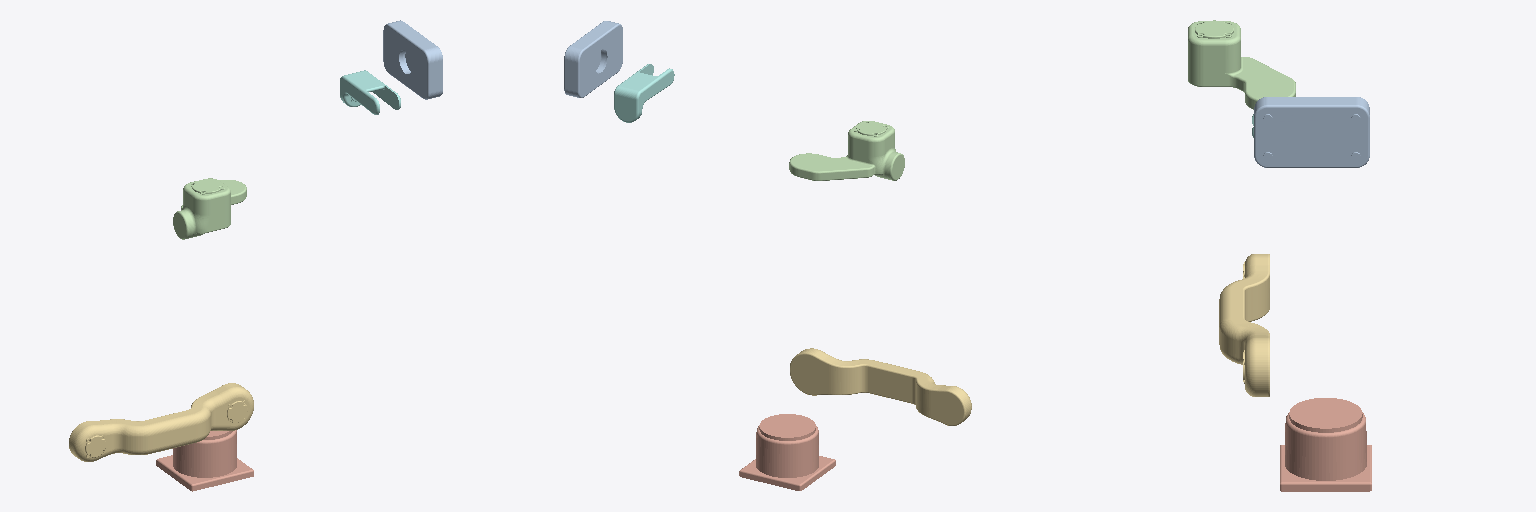
robot.urdf — sero_3:
<robot name="sero_3">
    <link name="world">
    <!--Bleibt erstmal leer -->
    </link>

    <joint name="fixed_link_to_world" type="fixed">
        <parent link="world"/>
        <child link="base"/>
    </joint>   
    <link name="base">
        <visual>
            <origin xyz="-4.1633363423443370266e-17 1.6949752565162061855e-18 -5.5154662533553587949e-34" rpy="-3.254009893154236877e-16 8.6281661508548166217e-32 1.2347465433156991646e-16" />
            <geometry>
                <mesh filename="package://sero_3/meshes/base.stl" />
            </geometry>
            <material name="base_material">
                <color rgba="0.89019607843137249503 0.69803921568627447236 0.63921568627450975342 1.0" />
            </material>
        </visual>
        <collision>
            <origin xyz="-4.1633363423443370266e-17 1.6949752565162061855e-18 -5.5154662533553587949e-34" rpy="-3.254009893154236877e-16 8.6281661508548166217e-32 1.2347465433156991646e-16" />
            <geometry>
                <mesh filename="package://sero_3/meshes/base.stl" />
            </geometry>
        </collision>
        <inertial>
            <origin xyz="-1.4191131412431651619e-17 3.093208156293898791e-17 0.039865010471469702891" rpy="0 0 0" />
            <mass value="29.561020908170693389" />
            <inertia ixx="0.56414288287999059257" ixy="6.1629758220391547298e-32" ixz="-2.6008615487439589667e-32" iyy="0.5641428828799902595" iyz="1.5651332502670880486e-16" izz="1.0451288975690682381" />
        </inertial>
    </link>
    <link name="link_1">
        <visual>
            <origin xyz="-6.1629758220391547298e-33 4.8470540592812887996e-18 0" rpy="3.141592653589793116 -2.0861283505423087262e-43 0" />
            <geometry>
                <mesh filename="package://sero_3/meshes/link_1.stl" />
            </geometry>
            <material name="link_1_material">
                <color rgba="0.92156862745098033773 0.80000000000000004441 0.65490196078431373028 1.0" />
            </material>
        </visual>
        <collision>
            <origin xyz="-6.1629758220391547298e-33 4.8470540592812887996e-18 0" rpy="3.141592653589793116 -2.0861283505423087262e-43 0" />
            <geometry>
                <mesh filename="package://sero_3/meshes/link_1.stl" />
            </geometry>
        </collision>
        <inertial>
            <origin xyz="2.5812154935817390889e-07 0.020078728528027917077 -0.084265679701914092403" rpy="0 0 0" />
            <!--
            <mass value="32.098264787234505491" /> -->
            <mass value="20" />
            <inertia ixx="0.15183599668872910238" ixy="-1.1318804273050995291e-06" ixz="4.1015787527610980043e-07" iyy="0.12206161215963268196" iyz="0.00514067802598717951" izz="0.12973629061825234232" />
        </inertial>
    </link>
    <link name="link_2">
        <visual>
            <origin xyz="0 4.5924254968025766839e-18 4.1183628318625710158e-18" rpy="-3.141592653589793116 9.8607613152626475676e-32 -1.3749793942868710628e-32" />
            <geometry>
                <mesh filename="package://sero_3/meshes/link_2.stl" />
            </geometry>
            <material name="link_2_material">
                <color rgba="0.94117647058823528106 0.87450980392156862919 0.67843137254901964006 1.0" />
            </material>
        </visual>
        <collision>
            <origin xyz="0 4.5924254968025766839e-18 4.1183628318625710158e-18" rpy="-3.141592653589793116 9.8607613152626475676e-32 -1.3749793942868710628e-32" />
            <geometry>
                <mesh filename="package://sero_3/meshes/link_2.stl" />
            </geometry>
        </collision>
        <inertial>
            <origin xyz="-0.31499983020000299483 -5.9338950341248018232e-08 -0.1048694271057695887" rpy="0 0 0" />
            <!--
            <mass value="95.412481284338156229" /> -->
            <mass value="10" />
            <inertia ixx="0.30014578780677336756" ixy="2.7683924706706791416e-07" ixz="2.5259250984795803334e-06" iyy="5.0701114070706099213" iyz="-3.3364583905554261746e-07" izz="4.9823951617652841861" />
        </inertial>
    </link>
    <link name="link_3">
        <visual>
            <origin xyz="0 0 -3.5177085194790902871e-18" rpy="1.570796326794896558 -1.9721522630525295135e-31 1.3755759769189022776e-33" />
            <geometry>
                <mesh filename="package://sero_3/meshes/link_3.stl" />
            </geometry>
            <material name="link_3_material">
                <color rgba="0.79607843137254896693 0.90588235294117647189 0.74509803921568629193 1.0" />
            </material>
        </visual>
        <collision>
            <origin xyz="0 0 -3.5177085194790902871e-18" rpy="1.570796326794896558 -1.9721522630525295135e-31 1.3755759769189022776e-33" />
            <geometry>
                <mesh filename="package://sero_3/meshes/link_3.stl" />
            </geometry>
        </collision>
        <inertial>
            <origin xyz="-0.12787550742648204349 -0.086695678159673439378 -0.13092497492624188826" rpy="0 0 0" />
            <!--
            <mass value="84.06211694702932391" /> -->
            <mass value="5" />
            <inertia ixx="0.72701390054885139946" ixy="-0.56396100688611627838" ixz="-0.3398755684914888664" iyy="2.2596801602232305939" iyz="-0.076724939144711401529" izz="2.471848827686650818" />
        </inertial>
    </link>
    <link name="link_4">
        <visual>
            <origin xyz="0 0 3.0295804379226702294e-18" rpy="3.141592653589793116 -0 -3.8393994794198495367e-32" />
            <geometry>
                <mesh filename="package://sero_3/meshes/link_4.stl" />
            </geometry>
            <material name="link_4_material">
                <color rgba="0.73725490196078435901 0.9372549019607843146 0.91764705882352937127 1.0" />
            </material>
        </visual>
        <collision>
            <origin xyz="0 0 3.0295804379226702294e-18" rpy="3.141592653589793116 -0 -3.8393994794198495367e-32" />
            <geometry>
                <mesh filename="package://sero_3/meshes/link_4.stl" />
            </geometry>
        </collision>
        <inertial>
            <origin xyz="-0.0057366460591120483486 -0.056799838397228498421 -0.078907548477852723634" rpy="0 0 0" />
            <!--
            <mass value="35.563010627334307401" /> -->
            <mass value="10" />
            <inertia ixx="0.14795985643388004371" ixy="-0.006773630552061549355" ixz="-0.00022289820645230695706" iyy="0.19264265280028286531" iyz="-0.002206662293176273916" izz="0.2475639065566472008" />
        </inertial>
    </link>
    <link name="ee_base">
        <visual>
            <origin xyz="6.6613381471808452436e-18 0 -0.080000000000000071054" rpy="3.141592653589793116 -0 0" />
            <geometry>
                <mesh filename="package://sero_3/meshes/ee_base.stl" />
            </geometry>
            <material name="ee_base_material">
                <color rgba="0.76078431372549015776 0.83921568627450982003 0.92549019607843141522 1.0" />
            </material>
        </visual>
        <collision>
            <origin xyz="6.6613381471808452436e-18 0 -0.080000000000000071054" rpy="3.141592653589793116 -0 0" />
            <geometry>
                <mesh filename="package://sero_3/meshes/ee_base.stl" />
            </geometry>
        </collision>
        <inertial>
            <origin xyz="9.8538615821355001922e-18 1.3275424895558869447e-17 -0.0057551348153010856157" rpy="0 0 0" />
            <!--
            <mass value="13.798178184326982176" /> -->
            <mass value="5" />
            <inertia ixx="0.028682988283033793858" ixy="0" ixz="0" iyy="0.074982477117703713598" iyz="6.2565298301991734419e-33" izz="0.097983436923002042995" />
        </inertial>
    </link>
    <link name="v_tube">
        <visual>
            <origin xyz="0 -8.326672683761289173e-18 -0.044999999999999928946" rpy="3.141592653589793116 1.0342508817956038219e-31 0" />
            <geometry>
                <mesh filename="package://sero_3/meshes/v_tube.stl" />
            </geometry>
            <material name="v_tube_material">
                <color rgba="0.80000000000000004441 0.74901960784313725839 0.91372549019607840481 1.0" />
            </material>
        </visual>
        <collision>
            <origin xyz="0 -8.326672683761289173e-18 -0.044999999999999928946" rpy="3.141592653589793116 1.0342508817956038219e-31 0" />
            <geometry>
                <mesh filename="package://sero_3/meshes/v_tube.stl" />
            </geometry>
        </collision>
        <inertial>
            <origin xyz="1.7426086658785223658e-19 -8.326672683761289173e-18 -0.023353658507928257843" rpy="0 0 0" />
            <mass value="0.16852026592631189073" />
            <inertia ixx="3.3195910788590593564e-05" ixy="-6.5467390585808818723e-36" ixz="-3.6792700159404011462e-36" iyy="3.3195910788590593564e-05" iyz="0" izz="1.3625480037700539164e-05" />
        </inertial>
    </link>
    <joint name="vacuum_1" type="fixed">
        <origin xyz="0.094999999999999987232 0.044999999999999706901 -0.035000000000000031086" rpy="-2.5673907444551896414e-16 -4.5080215706672108797e-30 1.570796326794896558" />
        <parent link="ee_base" />
        <child link="v_tube" />
        <axis xyz="0 0 1" />
        <limit effort="1" velocity="3.14" />
        <dynamics damping="0.5" friction="0.5" />
    </joint>
    <link name="v_tube_2">
        <visual>
            <origin xyz="0 -4.9960036098762270031e-18 -0.044999999999999928946" rpy="3.141592653589793116 1.0342508817956038219e-31 0" />
            <geometry>
                <mesh filename="package://sero_3/meshes/v_tube.stl" />
            </geometry>
            <material name="v_tube_material">
                <color rgba="0.80000000000000004441 0.74901960784313725839 0.91372549019607840481 1.0" />
            </material>
        </visual>
        <collision>
            <origin xyz="0 -4.9960036098762270031e-18 -0.044999999999999928946" rpy="3.141592653589793116 1.0342508817956038219e-31 0" />
            <geometry>
                <mesh filename="package://sero_3/meshes/v_tube.stl" />
            </geometry>
        </collision>
        <inertial>
            <origin xyz="1.7426086658785223658e-19 -4.9960036098762270031e-18 -0.023353658507928257843" rpy="0 0 0" />
            <mass value="0.16852026592631189073" />
            <inertia ixx="3.3195910788590593564e-05" ixy="-6.5467390585808818723e-36" ixz="-3.6792700159404011462e-36" iyy="3.3195910788590593564e-05" iyz="0" izz="1.3625480037700539164e-05" />
        </inertial>
    </link>
    <joint name="vacuum_2" type="fixed">
        <origin xyz="0.095000000000000014988 -0.04500000000000015099 -0.035000000000000031086" rpy="-2.5673907444551896414e-16 -4.5080215706672108797e-30 1.570796326794896558" />
        <parent link="ee_base" />
        <child link="v_tube_2" />
        <axis xyz="0 0 1" />
        <limit effort="1" velocity="3.14" />
        <dynamics damping="0.5" friction="0.5" />
    </joint>
    <link name="v_tube_3">
        <visual>
            <origin xyz="0 5.5511151240626339132e-18 -0.044999999999999928946" rpy="3.141592653589793116 1.0342508817956038219e-31 0" />
            <geometry>
                <mesh filename="package://sero_3/meshes/v_tube.stl" />
            </geometry>
            <material name="v_tube_material">
                <color rgba="0.80000000000000004441 0.74901960784313725839 0.91372549019607840481 1.0" />
            </material>
        </visual>
        <collision>
            <origin xyz="0 5.5511151240626339132e-18 -0.044999999999999928946" rpy="3.141592653589793116 1.0342508817956038219e-31 0" />
            <geometry>
                <mesh filename="package://sero_3/meshes/v_tube.stl" />
            </geometry>
        </collision>
        <inertial>
            <origin xyz="1.7426086658785223658e-19 5.5511151240626331428e-18 -0.023353658507928257843" rpy="0 0 0" />
            <mass value="0.16852026592631189073" />
            <inertia ixx="3.3195910788590593564e-05" ixy="-6.5467390585808818723e-36" ixz="-3.6792700159404011462e-36" iyy="3.3195910788590593564e-05" iyz="0" izz="1.3625480037700539164e-05" />
        </inertial>
    </link>
    <joint name="vacuum_3" type="fixed">
        <origin xyz="-0.094999999999999987232 0.044999999999999706901 -0.035000000000000031086" rpy="-2.5673907444551896414e-16 -4.5080215706672108797e-30 1.570796326794896558" />
        <parent link="ee_base" />
        <child link="v_tube_3" />
        <axis xyz="0 0 1" />
        <limit effort="1" velocity="3.14" />
        <dynamics damping="0.5" friction="0.5" />
    </joint>
    <link name="v_tube_4">
        <visual>
            <origin xyz="0 8.8817841979453295003e-18 -0.044999999999999928946" rpy="3.141592653589793116 1.0342508817956038219e-31 0" />
            <geometry>
                <mesh filename="package://sero_3/meshes/v_tube.stl" />
            </geometry>
            <material name="v_tube_material">
                <color rgba="0.80000000000000004441 0.74901960784313725839 0.91372549019607840481 1.0" />
            </material>
        </visual>
        <collision>
            <origin xyz="0 8.8817841979453295003e-18 -0.044999999999999928946" rpy="3.141592653589793116 1.0342508817956038219e-31 0" />
            <geometry>
                <mesh filename="package://sero_3/meshes/v_tube.stl" />
            </geometry>
        </collision>
        <inertial>
            <origin xyz="1.7426086658785223658e-19 8.8817841979453295003e-18 -0.023353658507928257843" rpy="0 0 0" />
            <mass value="0.16852026592631189073" />
            <inertia ixx="3.3195910788590593564e-05" ixy="-6.5467390585808818723e-36" ixz="-3.6792700159404011462e-36" iyy="3.3195910788590593564e-05" iyz="0" izz="1.3625480037700539164e-05" />
        </inertial>
    </link>
    <joint name="vacuum_4" type="fixed">
        <origin xyz="-0.094999999999999959477 -0.045000000000000373035 -0.035000000000000031086" rpy="-2.5673907444551896414e-16 -4.5080215706672108797e-30 1.570796326794896558" />
        <parent link="ee_base" />
        <child link="v_tube_4" />
        <axis xyz="0 0 1" />
        <limit effort="1" velocity="3.14" />
        <dynamics damping="0.5" friction="0.5" />
    </joint>
    <joint name="j5" type="revolute">
        <origin xyz="0.14499999999999985123 -0.090000000000000301981 -0.079999999999999987788" rpy="-3.141592653589793116 1.5707963267948890085 0" />
        <parent link="link_4" />
        <child link="ee_base" />
        <axis xyz="0 0 1" />
        <limit effort="1000" velocity="3.14" lower="-3.141592653589793116" upper="3.141592653589793116" />
        <dynamics damping="1.0" friction="1.0" />
    </joint>
    <joint name="j4" type="revolute">
        <origin xyz="-0.49500000000000005107 -0.14000000000000001332 -0.17000000000000009548" rpy="3.1415926535897917837 6.241086271459160841e-16 -3.1415926535897922278" />
        <parent link="link_3" />
        <child link="link_4" />
        <axis xyz="0 0 1" />
        <limit effort="1000" velocity="3.14" lower="-3.141592653589793116" upper="3.141592653589793116" />
        <dynamics damping="1.0" friction="1.0" />
    </joint>
    <joint name="j3" type="revolute">
        <origin xyz="-0.62999999999999989342 -6.4711246131411124663e-32 1.061085658197035173e-17" rpy="-3.141592653589793116 -1.819226480685986761e-15 1.5707963267948961139" />
        <parent link="link_2" />
        <child link="link_3" />
        <axis xyz="0 0 1" />
        <limit effort="1000" velocity="3.14" lower="-3.141592653589793116" upper="3.141592653589793116" />
        <dynamics damping="1.0" friction="1.0" />
    </joint>
    <joint name="j2" type="revolute">
        <origin xyz="-6.1629758220391547298e-33 0.12000000000000005107 -0.079999999999999960032" rpy="1.5707963267948956698 -1.5707963267948956698 0" />
        <parent link="link_1" />
        <child link="link_2" />
        <axis xyz="0 0 1" />
        <limit effort="9000" velocity="3.14" lower="-1.5708" upper="1.5708" />
        <dynamics damping="1.0" friction="1.0" />
    </joint>
    <joint name="j1" type="revolute">
        <origin xyz="-4.1633363423443370266e-17 6.2524054036301313582e-17 0.17000000000000001221" rpy="3.141592653589793116 -3.5404820457539550914e-27 -5.5511151231290971505e-17" />
        <parent link="base" />
        <child link="link_1" />
        <axis xyz="0 0 1" />
        <limit effort="100" velocity="3.14" lower="-3.141592653589793116" upper="3.141592653589793116" />
        <dynamics damping="1.0" friction="1.0" />
    </joint>
    <!--MoveIt Setup Assistant -->
    <transmission name="trans_j5">
        <type>transmission_interface/SimpleTransmission</type>
        <joint name="j5">
            <hardwareInterface>hardware_interface/EffortJointInterface</hardwareInterface>
        </joint>
        <actuator name="j5_motor">
            <hardwareInterface>hardware_interface/EffortJointInterface</hardwareInterface>
            <mechanicalReduction>1</mechanicalReduction>
        </actuator>
    </transmission>
    <transmission name="trans_j4">
        <type>transmission_interface/SimpleTransmission</type>
        <joint name="j4">
            <hardwareInterface>hardware_interface/EffortJointInterface</hardwareInterface>
        </joint>
        <actuator name="j4_motor">
            <hardwareInterface>hardware_interface/EffortJointInterface</hardwareInterface>
            <mechanicalReduction>1</mechanicalReduction>
        </actuator>
    </transmission>
    <transmission name="trans_j3">
        <type>transmission_interface/SimpleTransmission</type>
        <joint name="j3">
            <hardwareInterface>hardware_interface/EffortJointInterface</hardwareInterface>
        </joint>
        <actuator name="j3_motor">
            <hardwareInterface>hardware_interface/EffortJointInterface</hardwareInterface>
            <mechanicalReduction>1</mechanicalReduction>
        </actuator>
    </transmission>
    <transmission name="trans_j2">
        <type>transmission_interface/SimpleTransmission</type>
        <joint name="j2">
            <hardwareInterface>hardware_interface/EffortJointInterface</hardwareInterface>
        </joint>
        <actuator name="j2_motor">
            <hardwareInterface>hardware_interface/EffortJointInterface</hardwareInterface>
            <mechanicalReduction>1</mechanicalReduction>
        </actuator>
    </transmission>
    <transmission name="trans_j1">
        <type>transmission_interface/SimpleTransmission</type>
        <joint name="j1">
            <hardwareInterface>hardware_interface/EffortJointInterface</hardwareInterface>
        </joint>
        <actuator name="j1_motor">
            <hardwareInterface>hardware_interface/EffortJointInterface</hardwareInterface>
            <mechanicalReduction>1</mechanicalReduction>
        </actuator>
    </transmission>

    <!--Gazebo Plugins -->
    <gazebo>
        <plugin name="control" filename="libgazebo_ros_control.so">
            <robotNamespace>/</robotNamespace>
        </plugin>
    </gazebo>
    <gazebo>
        <plugin name = "joint_state_publisher" filename = "libgazebo_ros_joint_state_publisher.so" >
        <jointName>j1, j2, j3, j4, j5 </jointName>
        </plugin>
    </gazebo>
</robot>

--- Facts derived from the render (not from the file) ---
Views: 3 orthographic renders of the robot side by side, from view 1: azimuth 30°, elevation 25°; view 2: azimuth 150°, elevation 25°; view 3: azimuth 270°, elevation 25°.
Robot: sero_3 — 11 links, 10 joints (5 revolute, 5 fixed); root link world; default pose: every joint at zero.
Visible links, largest first — view 1: link_2, base, ee_base, link_3, link_4; view 2: link_2, base, link_3, ee_base, link_4; view 3: ee_base, base, link_2, link_3.
Link boxes in pixels (x1=…): link_2: x1=69, y1=383, x2=253, y2=461; base: x1=156, y1=430, x2=253, y2=491; ee_base: x1=383, y1=20, x2=442, y2=99; link_3: x1=173, y1=178, x2=246, y2=239; link_4: x1=340, y1=70, x2=400, y2=114; link_2: x1=790, y1=348, x2=971, y2=425; base: x1=739, y1=414, x2=835, y2=490; link_3: x1=789, y1=121, x2=904, y2=180; ee_base: x1=564, y1=21, x2=622, y2=97; link_4: x1=614, y1=64, x2=674, y2=122; ee_base: x1=1254, y1=97, x2=1369, y2=167; base: x1=1280, y1=398, x2=1371, y2=491; link_2: x1=1219, y1=254, x2=1269, y2=396; link_3: x1=1188, y1=20, x2=1295, y2=109.
Bounding box of the posed robot: 1.18 × 0.3983 × 1.19 m (x, y, z).
5 mesh visuals loaded from 7 distinct referenced files (5 binary STL); not drawn: 5 (reference not matched to a file when rendering).